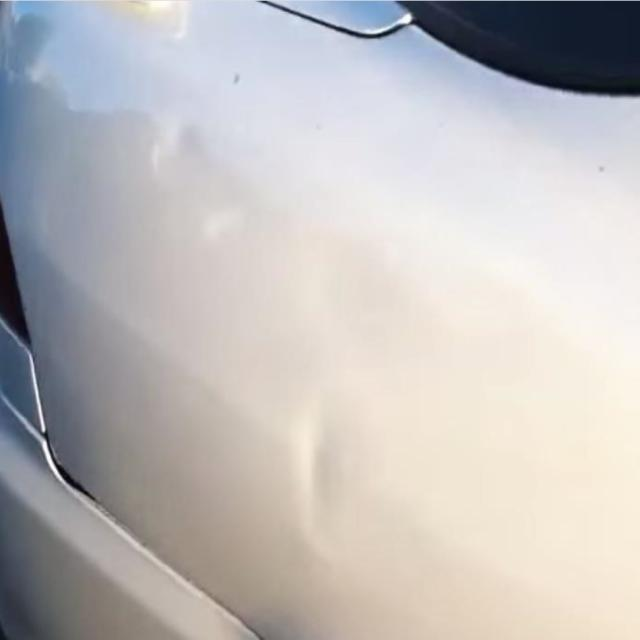dents: (284, 400, 381, 597)
